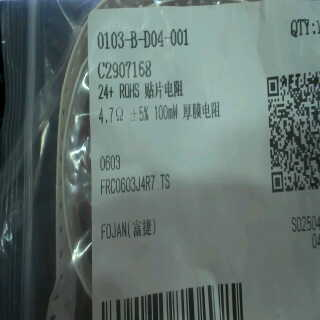4.7R: (95, 103, 128, 130)
